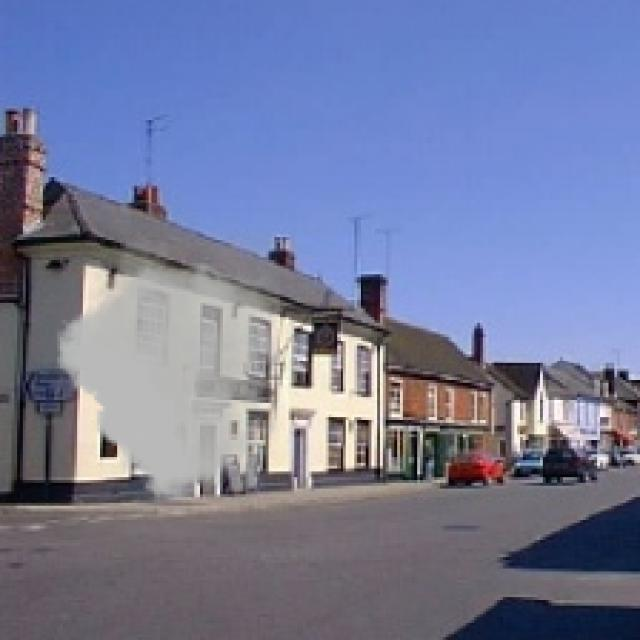smoke: (57, 231, 280, 506)
